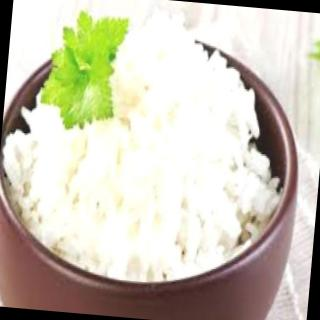Nasi: (1, 1, 300, 295)
